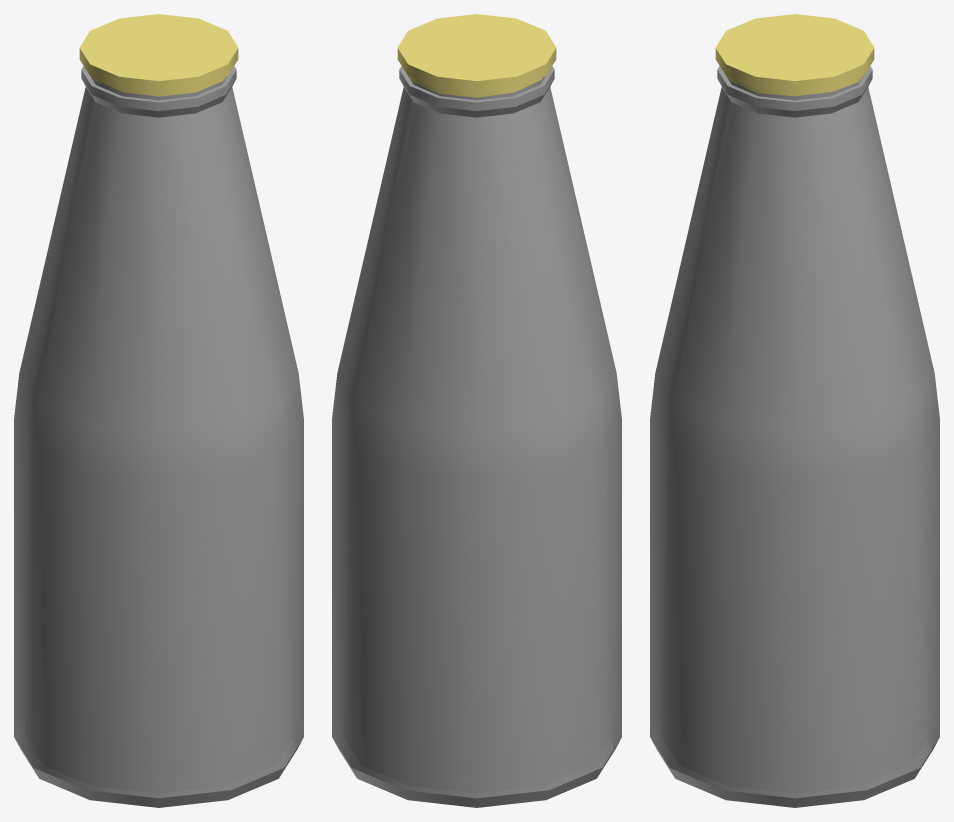
The model's file is milk.fbx.
The picture shows the model from 3 angles, left to right: view 1: azimuth 30°, elevation 25°; view 2: azimuth 150°, elevation 25°; view 3: azimuth 270°, elevation 25°; orthographic projection.
Visible parts, largest first — view 1: bottle_low, cap_low; view 2: bottle_low, cap_low; view 3: bottle_low, cap_low.
Boxes of the visible parts, bbox=[...] form: bottle_low: bbox=[14, 66, 303, 807]; cap_low: bbox=[79, 14, 238, 96]; bottle_low: bbox=[332, 66, 621, 807]; cap_low: bbox=[397, 14, 556, 97]; bottle_low: bbox=[650, 66, 939, 807]; cap_low: bbox=[715, 14, 874, 96].
Bounding box in the file's own units: 14.34 × 38.32 × 14.34.
Materials: 4 (1 with a texture image).
